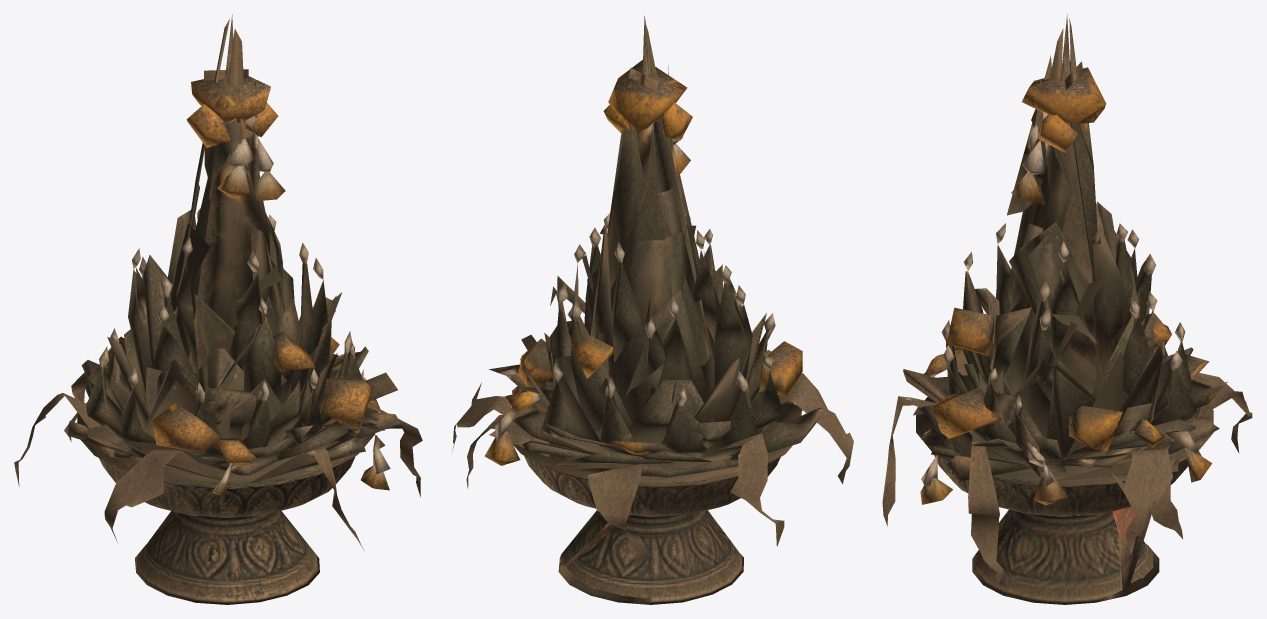
The model's file is Meshy_AI_Withered_Temple_Offering_20261028_texture.fbx.
3 renders of one model, left to right at view 1: azimuth 30°, elevation 25°; view 2: azimuth 150°, elevation 25°; view 3: azimuth 270°, elevation 25°, orthographic.
Parts seen in each view (by area): view 1: Mesh_0; view 2: Mesh_0; view 3: Mesh_0.
Part boxes in pixels (bbox=[...]): Mesh_0: bbox=[14, 14, 422, 604]; Mesh_0: bbox=[452, 16, 853, 604]; Mesh_0: bbox=[882, 14, 1252, 604].
Size of the model in its own units: 61.72 by 95.21 by 57.62.
1 material, 1 textured.
